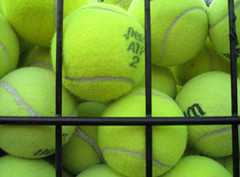tennis ball: (49, 3, 151, 103), (98, 87, 189, 176), (1, 64, 80, 161), (124, 1, 211, 72), (173, 68, 240, 158), (1, 1, 107, 48)
